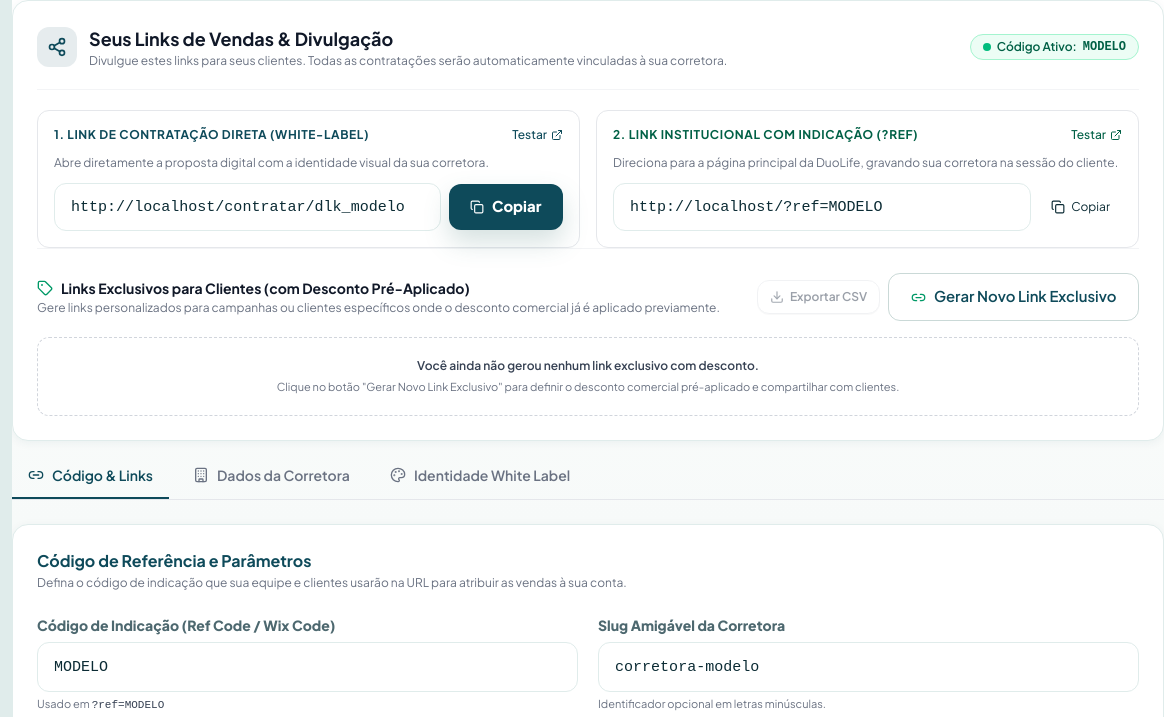
Test: Portal Branding UI - Aba Identidade White Label › deve alternar para a aba Identidade White Label e renderizar seletores de cores, paletas de 1-clique, upload e preview
The image size is (1164, 717).
Click the button "Identidade White Label" at point(480, 482), box [374,465,586,499]
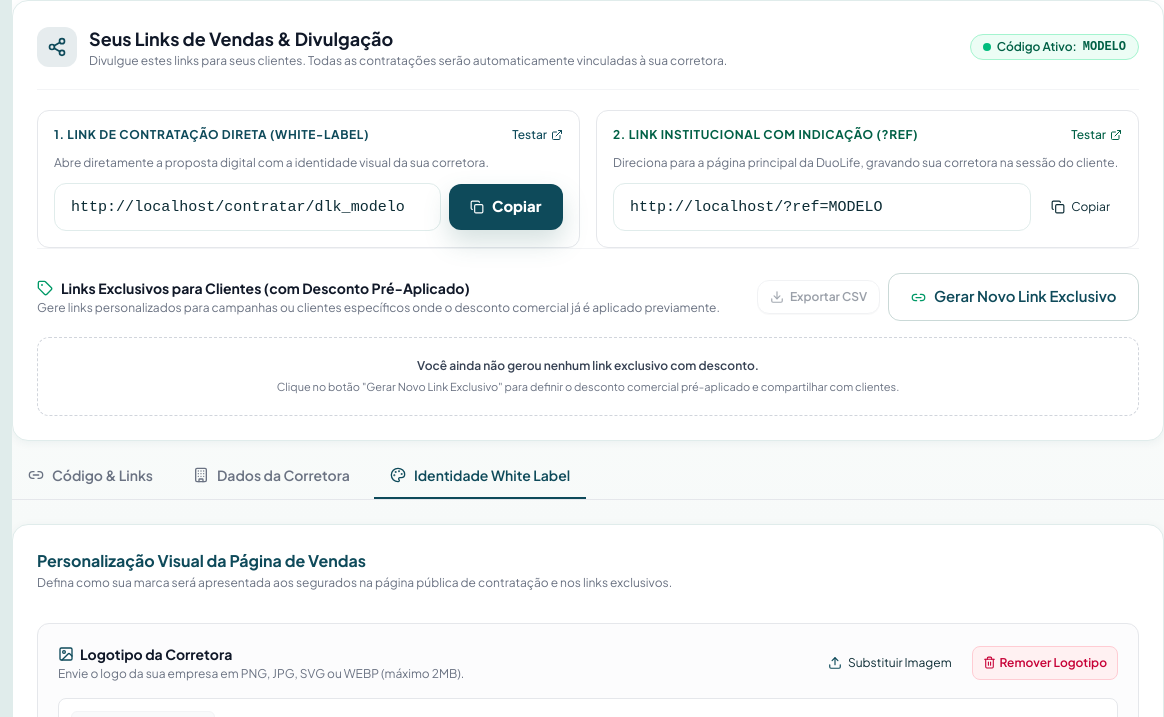
Check: the text "Logotipo da Corretora" is shown, box [80,644,232,664]
Check: the text "Remover Logotipo" is shown, box [1000,655,1107,671]
Check: the text "Substituir Imagem" is shown, box [848,655,952,671]
